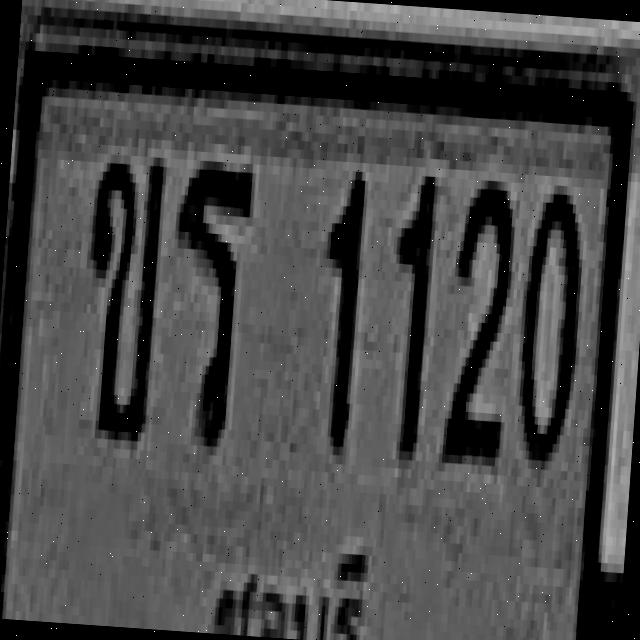0: (504, 168, 602, 486)
1: (296, 136, 389, 474), (382, 158, 456, 480)
11KhorKhai: (64, 109, 190, 472)
2: (438, 158, 541, 520)
44RorRuea: (148, 147, 266, 470)
Chonburi: (188, 550, 398, 640)
